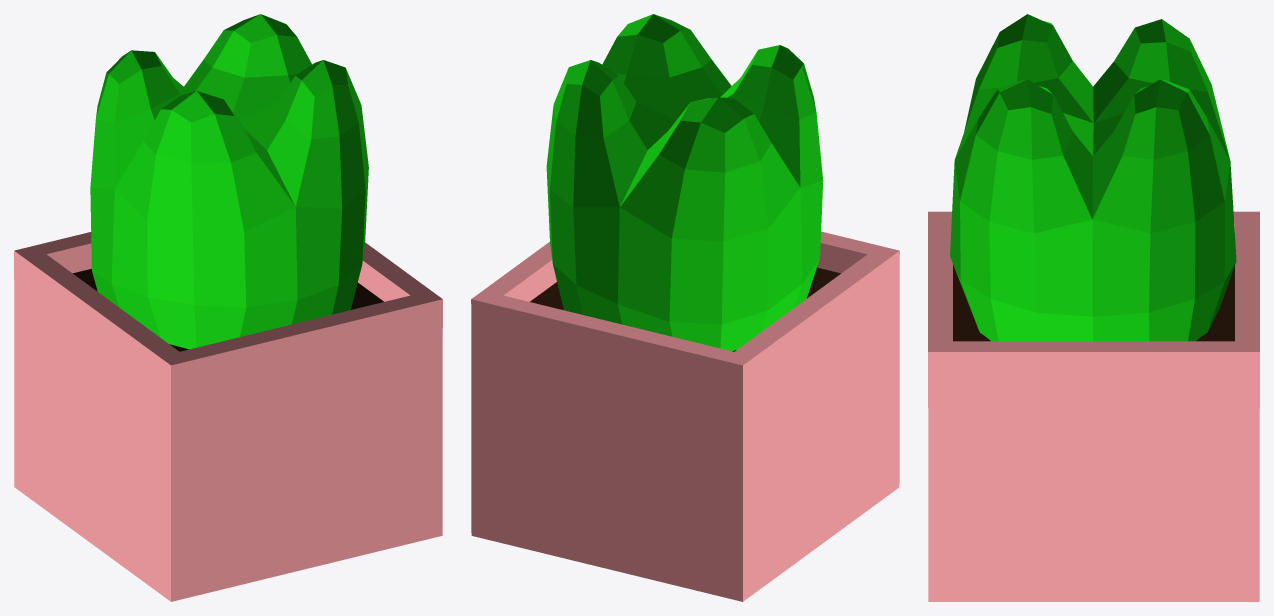
Rendered from Cactus Planter.fbx.
3 views of the same model, side by side, from view 1: azimuth 30°, elevation 25°; view 2: azimuth 150°, elevation 25°; view 3: azimuth 270°, elevation 25° (orthographic). The views are drawn at different scales.
Visible parts, largest first — view 1: Node 0; view 2: Node 0; view 3: Node 0.
Boxes of the visible parts, x1,y1,x2,y2 form: Node 0: [14, 14, 442, 601]; Node 0: [471, 14, 899, 601]; Node 0: [928, 14, 1259, 601].
Size of the model in its own units: 0.1446 by 0.2335 by 0.1446.
